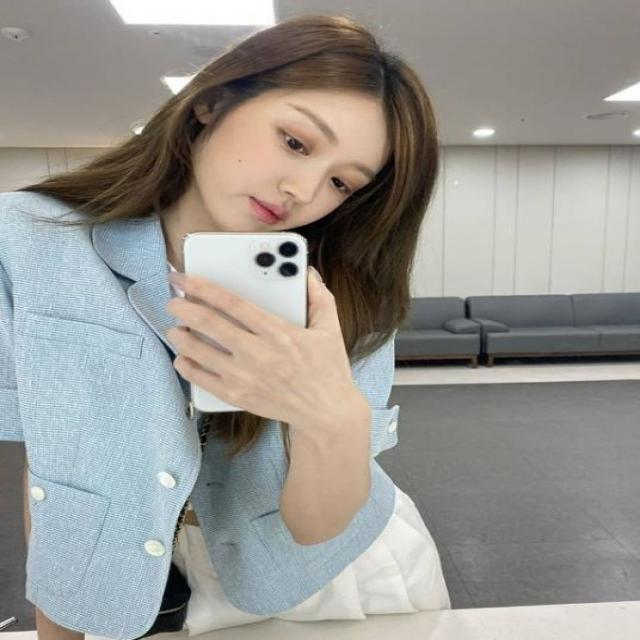phone: (184, 232, 308, 414)
